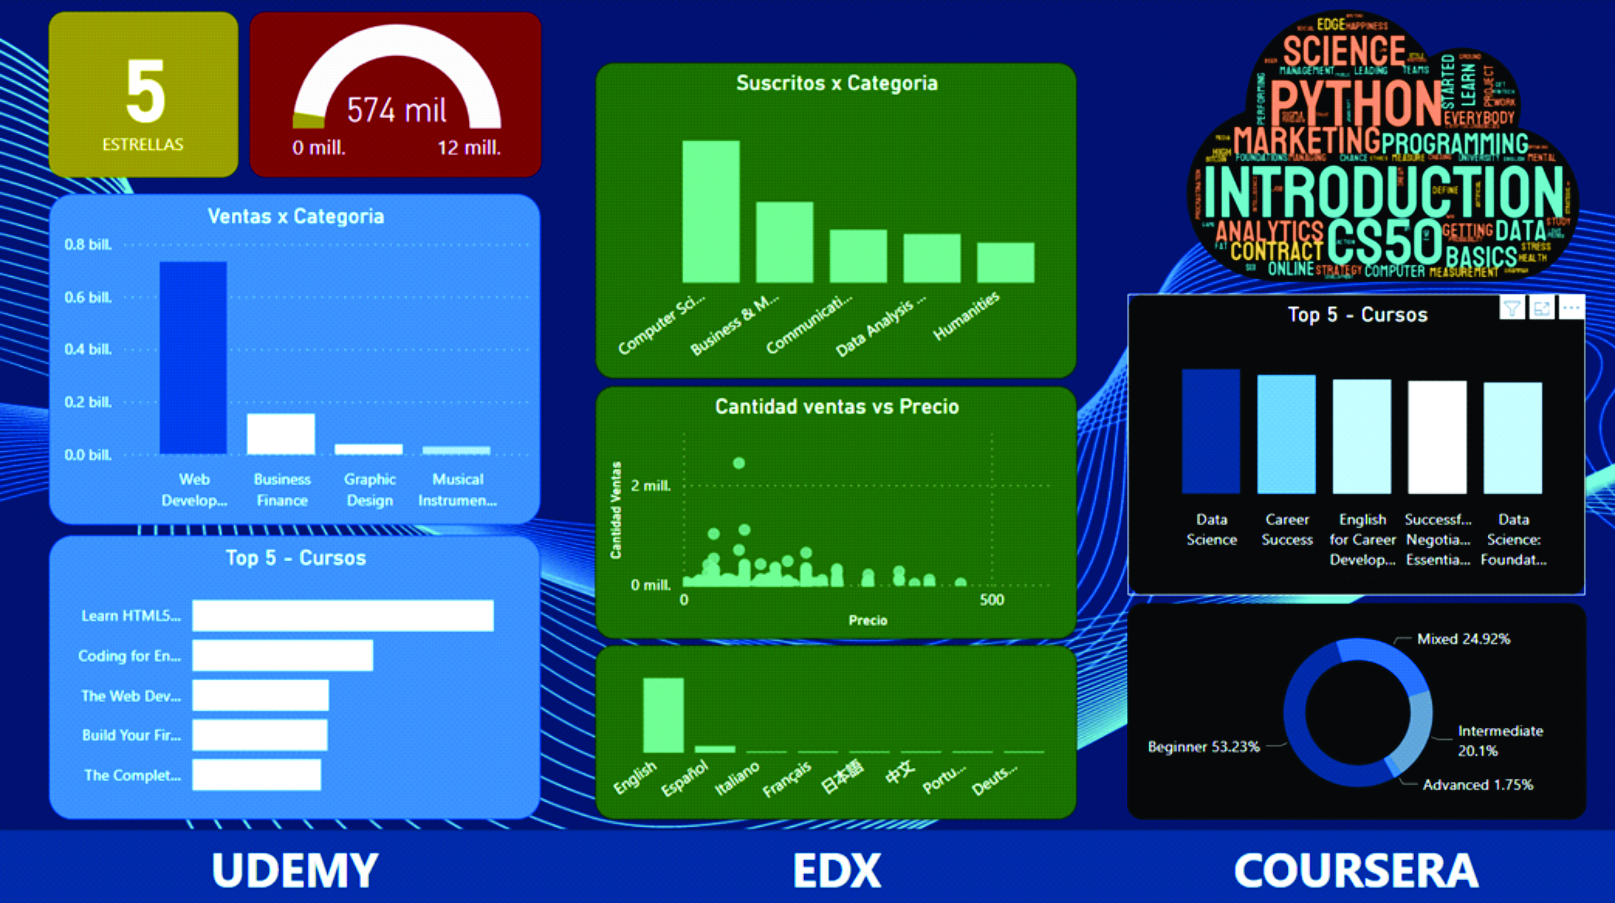

The page's visual inventory and layout, read from the dashboard file:
{"tool":"powerbi","page":{"name":"Dashborad","canvas":[1280,720],"ordinal":0},"visuals":[{"type":"columnChart","title":"Ventas x Categoria","fields":{"Category":["udemy.subject"],"Y":["udemy.price x num_subscribers"]},"box":[39.9,156.1,389.3,261.6],"z":0},{"type":"columnChart","title":"Suscritos x Categoria","fields":{"Category":["edx.subject"],"Y":["Sum(edx.n_enrolled)"]},"box":[471.7,52.3,381.3,250],"z":1000},{"type":"columnChart","title":"Top 5 - Cursos","fields":{"Category":["coursera.name"],"Y":["Sum(coursera.students_enrolled.1)"]},"box":[892.9,235.9,361.8,237.6],"z":2000},{"type":"kpi","title":"Rating","fields":{"Indicator":["Sum(coursera.rating)"],"TrendLine":["coursera.name"]},"box":[39.9,12.4,149.9,131.2],"z":3000},{"type":"image","box":[934.6,0,320.1,235.9],"z":4000},{"type":"scatterChart","title":"Cantidad ventas vs Precio","fields":{"X":["edx.price"],"Y":["edx.n_enrolled"]},"box":[471.7,308.6,381.3,200.4],"z":5000},{"type":"columnChart","title":"Idiomas","fields":{"Category":["edx.language"],"Y":["Sum(edx.n_enrolled)"]},"box":[471.7,512.5,381.3,138.3],"z":6000},{"type":"shape","box":[0,658.5,1280,61.3],"z":7000},{"type":"textbox","box":[146.3,658.8,176.5,61.2],"z":8000},{"type":"textbox","box":[585.2,658.8,154.3,61.2],"z":9000},{"type":"textbox","box":[961.2,658.8,224.3,61.2],"z":10000},{"type":"barChart","title":"Top 5 - Cursos","fields":{"Category":["udemy.course_title"],"Y":["Sum(udemy.num_subscribers)"]},"box":[39.9,425.6,389.3,225.2],"z":11000},{"type":"gauge","fields":{"MaxValue":["Sum(udemy.num_subscribers)"],"Y":["Sum(udemy.num_reviews)"]},"box":[198.8,12.5,230.5,131.1],"z":12000},{"type":"textbox","box":[72.7,102.9,84.2,27.5],"z":13000},{"type":"donutChart","fields":{"Y":["Sum(coursera.students_enrolled.1)"],"Category":["coursera.level"],"Series":["coursera.level"]},"box":[892.9,480.6,361.8,170.2],"z":14000},{"type":"textbox","box":[234.7,120.3,157,27.6],"z":14001}]}

Visuals, with their boxes in screenshot pixels (x1, y1, x2, y2), scaled from the page's 1280x720 canvas onto the 1615x903 screenshot:
"Ventas x Categoria" columnChart: bbox(50, 196, 542, 524)
"Suscritos x Categoria" columnChart: bbox(595, 66, 1076, 379)
"Top 5 - Cursos" columnChart: bbox(1127, 296, 1583, 594)
"Rating" kpi: bbox(50, 16, 239, 180)
image: bbox(1179, 0, 1583, 296)
"Cantidad ventas vs Precio" scatterChart: bbox(595, 387, 1076, 638)
"Idiomas" columnChart: bbox(595, 643, 1076, 816)
shape: bbox(0, 826, 1614, 902)
textbox: bbox(185, 826, 407, 902)
textbox: bbox(738, 826, 933, 902)
textbox: bbox(1213, 826, 1496, 902)
"Top 5 - Cursos" barChart: bbox(50, 534, 542, 816)
gauge - Sum(udemy.num_subscribers) x Sum(udemy.num_reviews): bbox(251, 16, 542, 180)
textbox: bbox(92, 129, 198, 164)
donutChart - Sum(coursera.students_enrolled.1) x coursera.level: bbox(1127, 603, 1583, 816)
textbox: bbox(296, 151, 494, 185)
